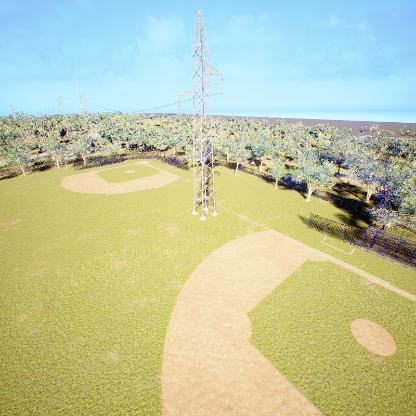tower: (178, 14, 228, 222)
